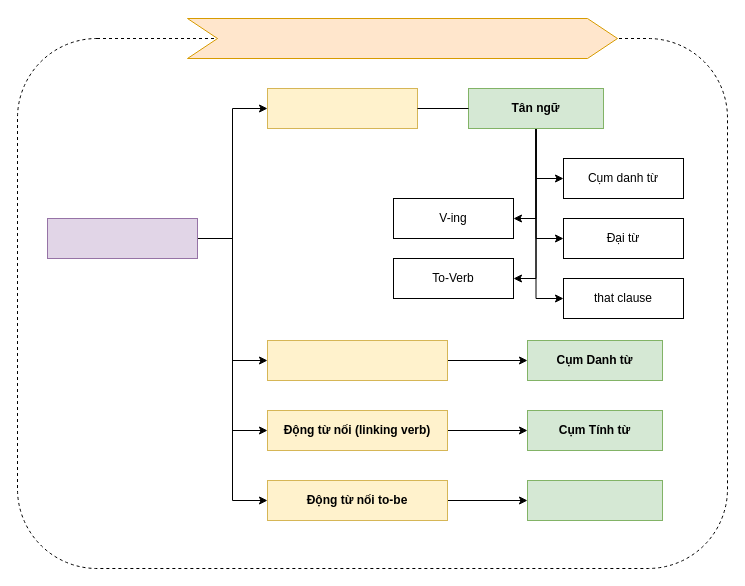
This 745x586 diagram has some shape labels left out. Here are the shapes that lost their labels. From the top down, the box of each, then its label:
(186, 18, 618, 58): VỊ NGỮ LÀ CỤM ĐỘNG TỪ THƯỜNG
(266, 88, 418, 128): Động từ chính
(46, 218, 198, 258): Trợ Động từ
(266, 340, 448, 380): Động từ to-be, to become
(526, 480, 662, 520): Cụm Giới từ
